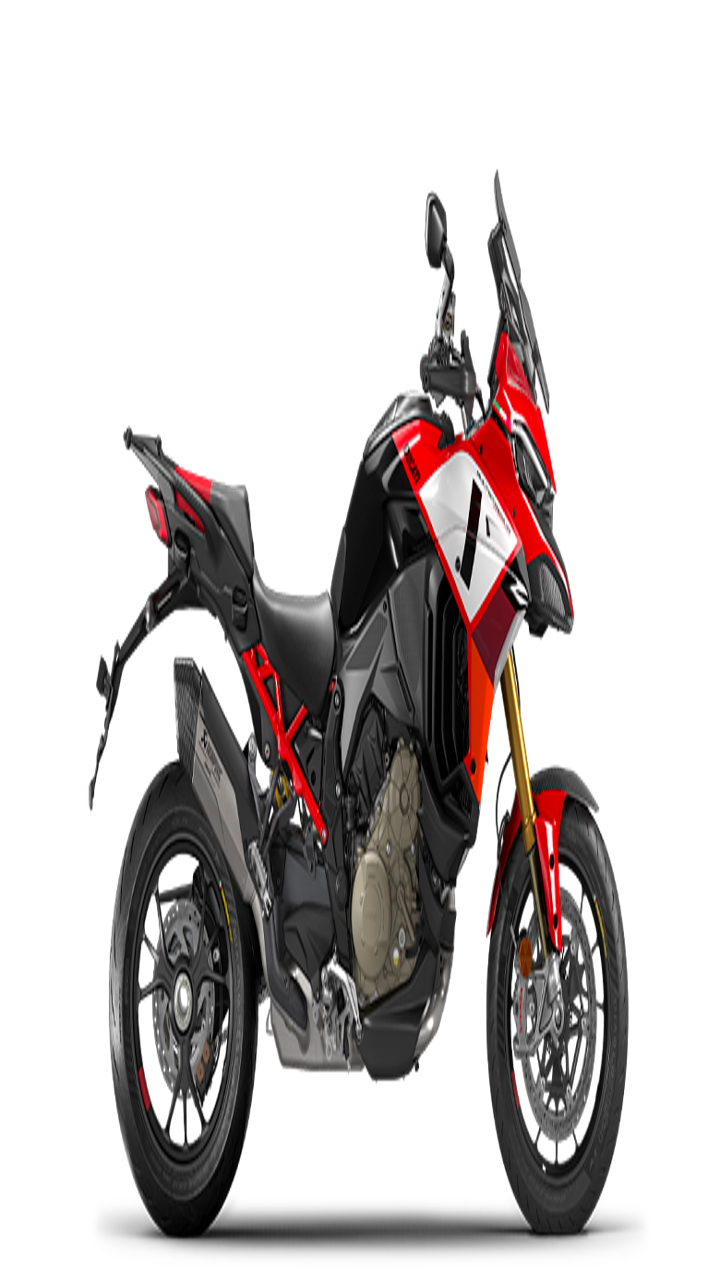motorcycle: (1, 172, 687, 1256)
